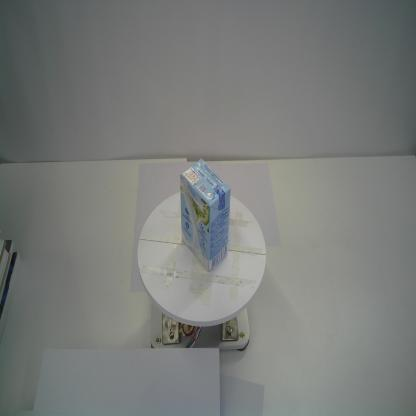Milk: (180, 158, 231, 273)
